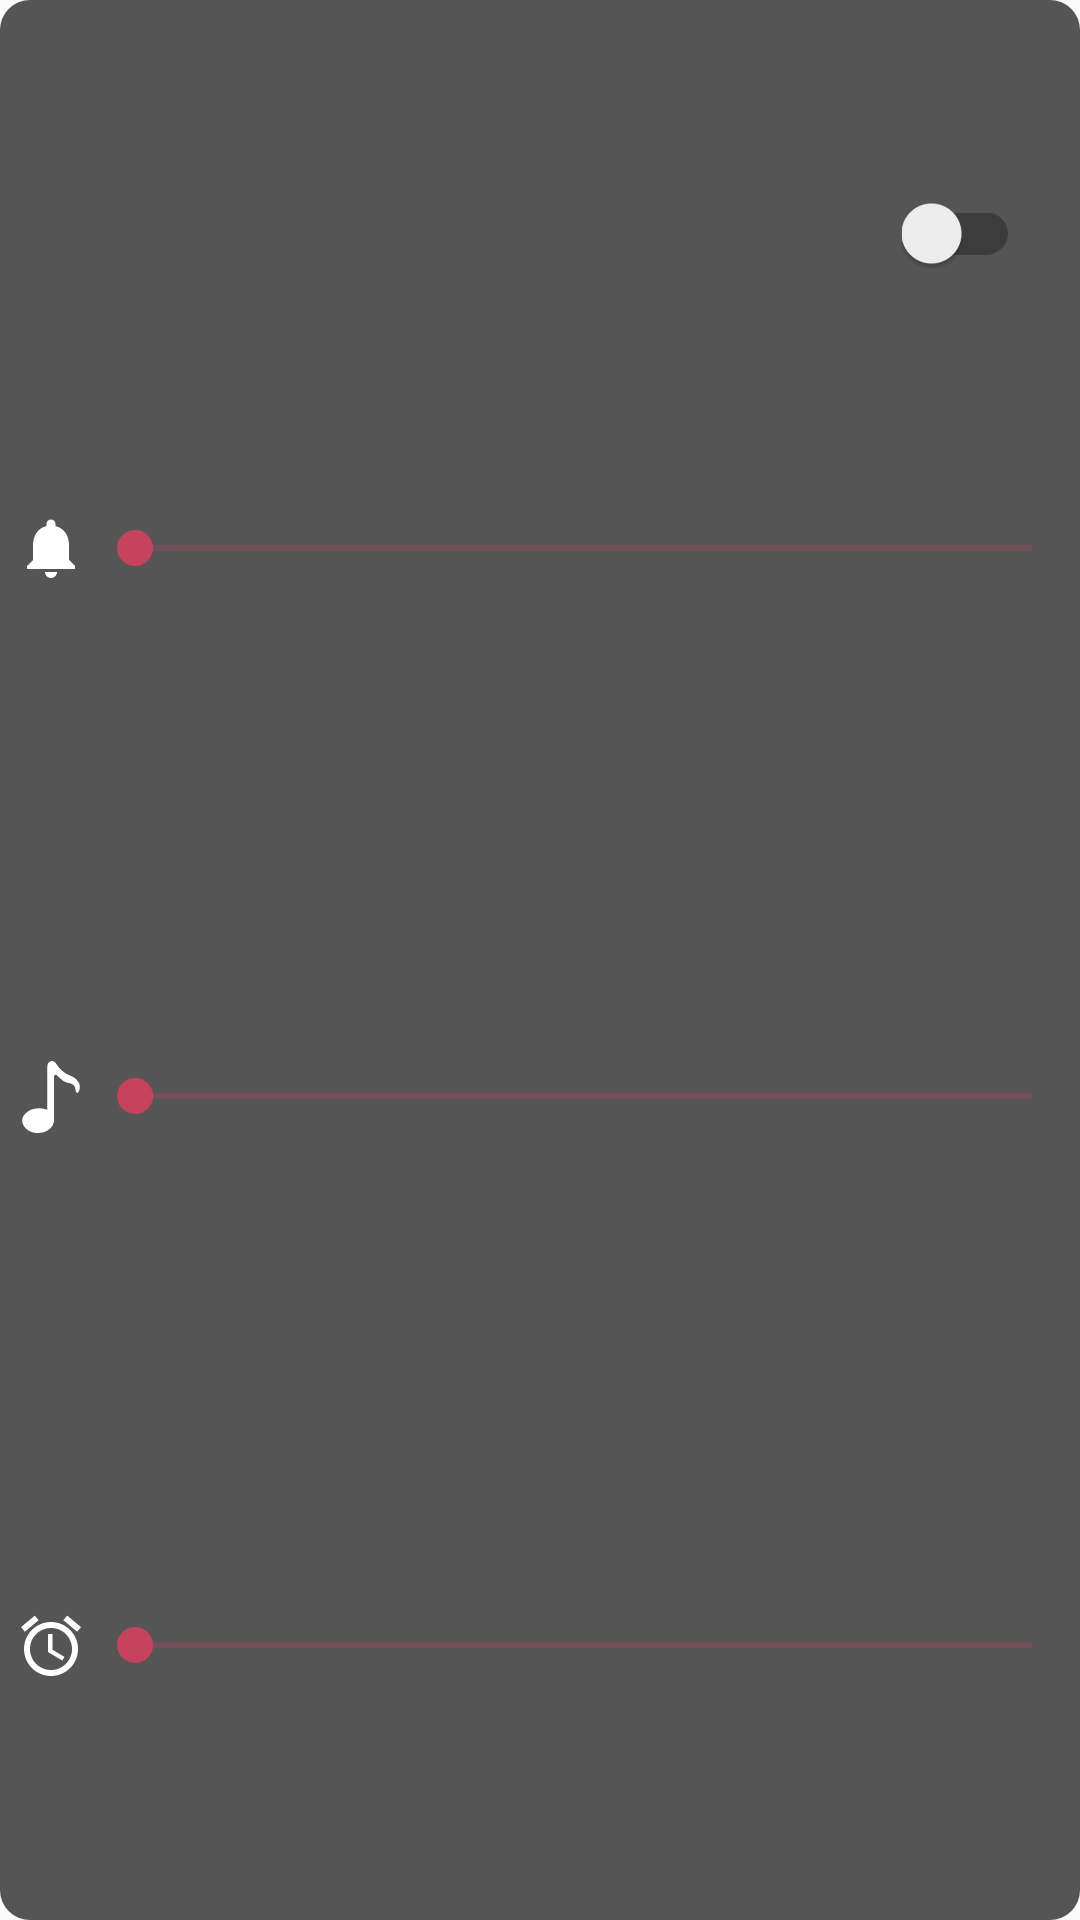

Point at icon controls on the screen. Image size 1080×1920, points as point (x, y).
alarm: point (51, 1646)
media: point (51, 1097)
notifications: point (51, 548)
